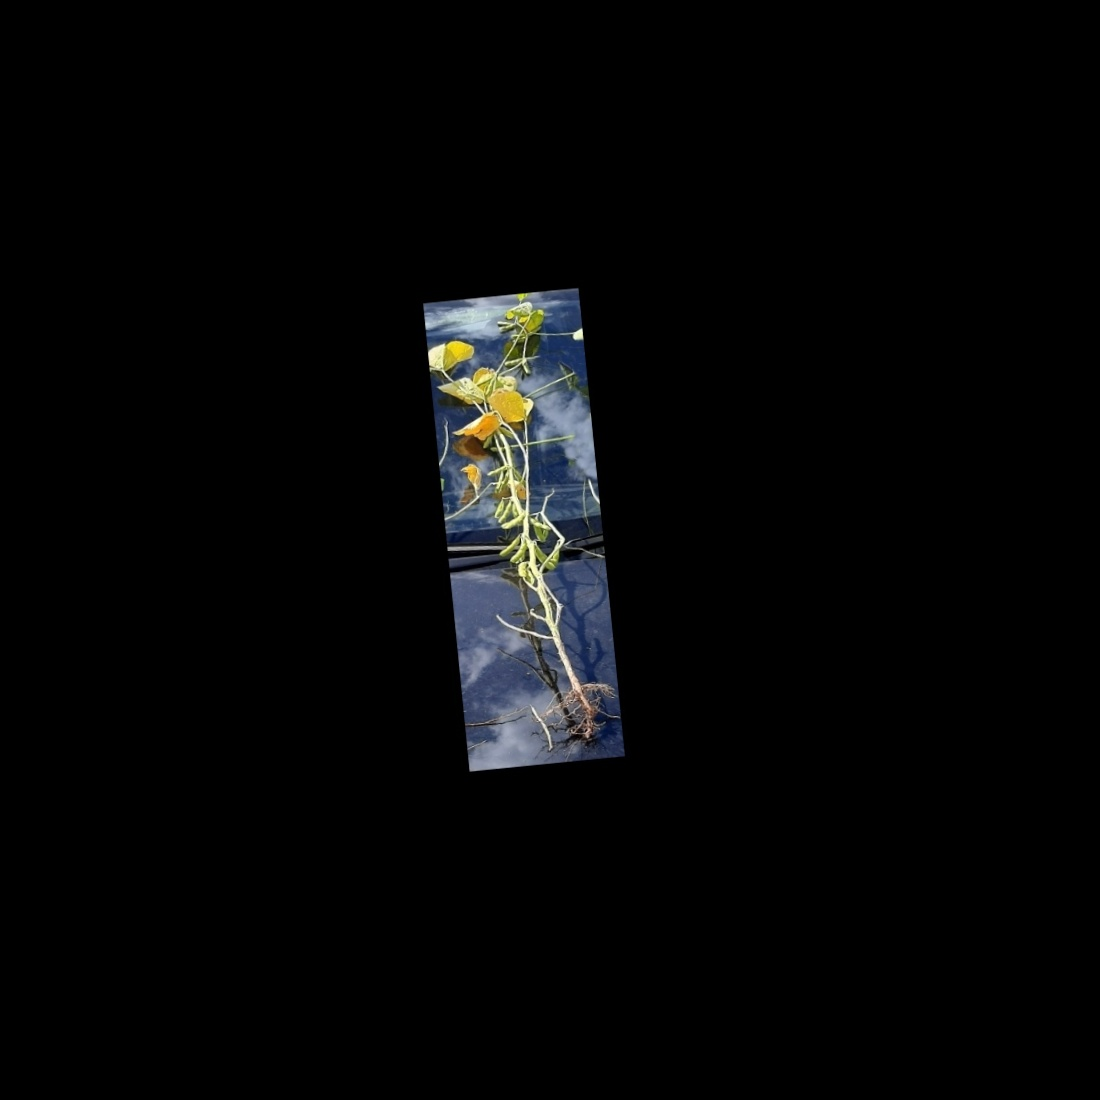pod: (532, 542, 558, 576), (504, 536, 531, 568), (494, 535, 525, 560), (492, 498, 518, 527), (504, 539, 529, 565), (494, 512, 528, 531), (526, 512, 554, 535), (530, 518, 549, 548), (483, 461, 510, 477)
soy: (435, 288, 615, 751)
